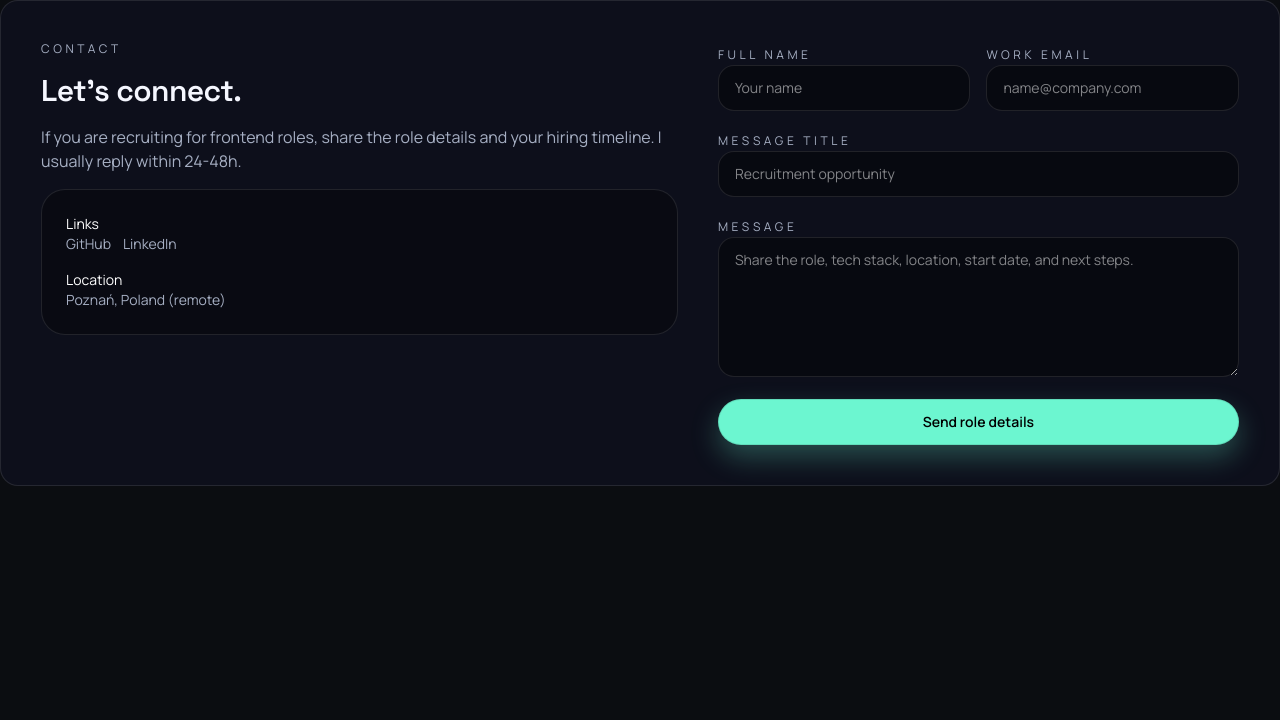
Scenario: Contact › validation errors › shows error when message is too short
This screenshot has width=1280, height=720.
Type "Jane Smith" into the field with placeholder "Your name" at (844, 88), box [718,65,970,111]
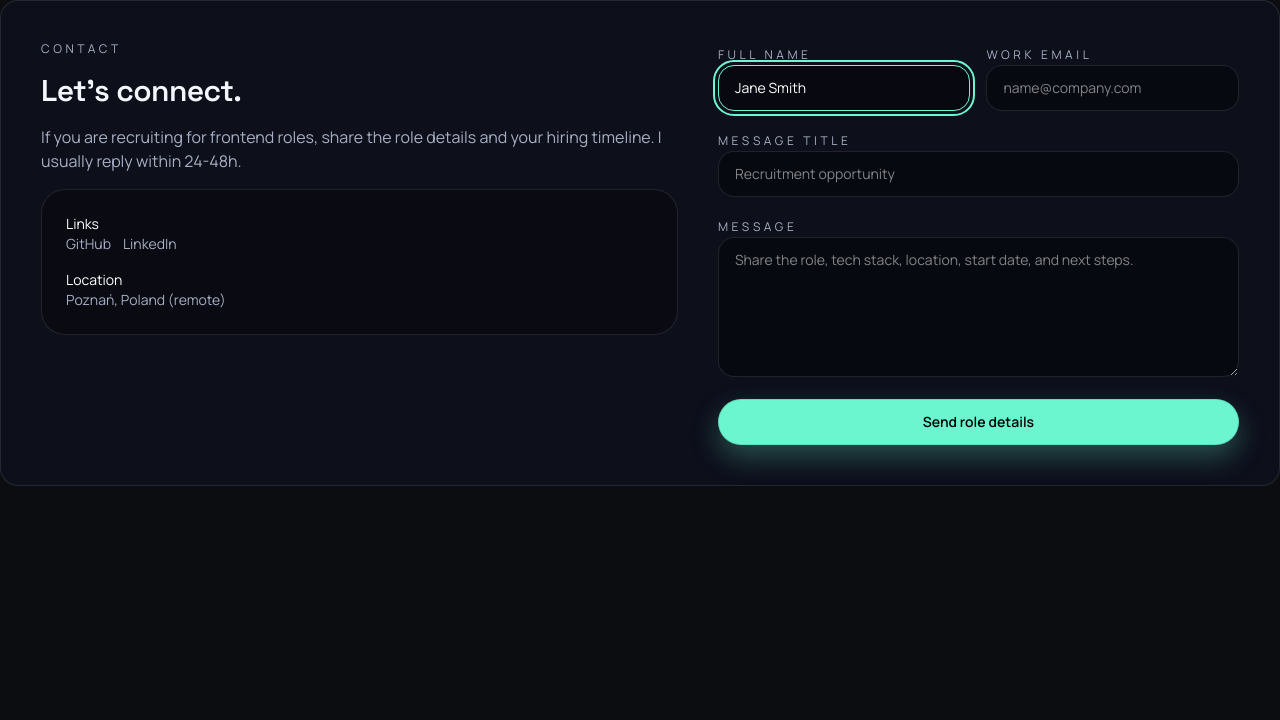
Type "jane@company.com" into the field with placeholder "name@company.com" at (1113, 88), box [986,65,1239,111]
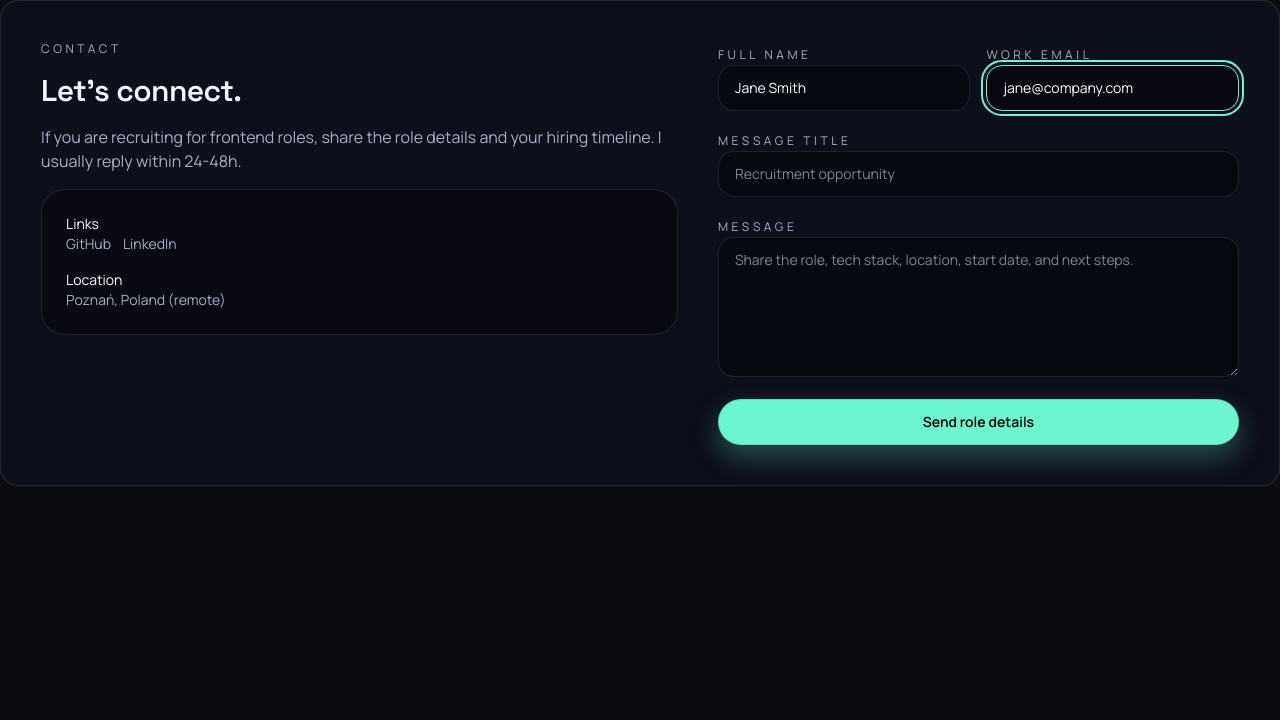
Type "Too short" into the text box with placeholder "Share the role" at (978, 307), box [718,237,1239,377]
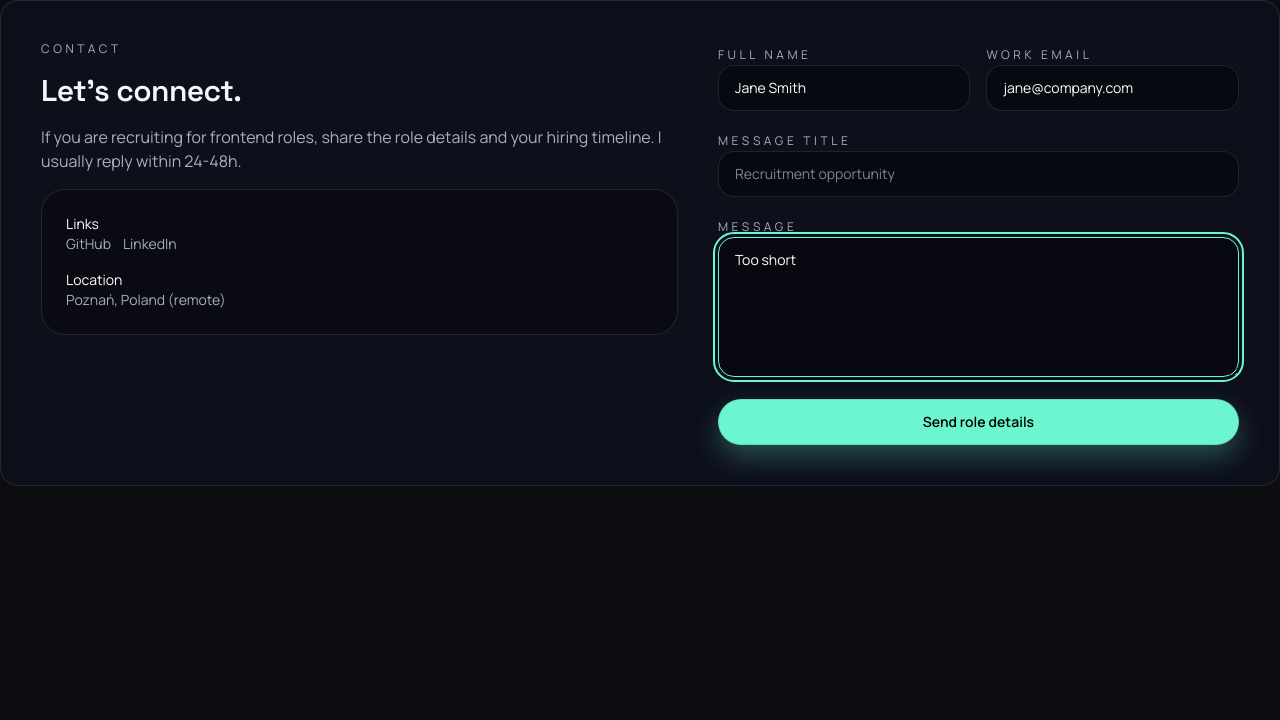
Click the button "Send role details" at (978, 422), box [718,399,1239,445]
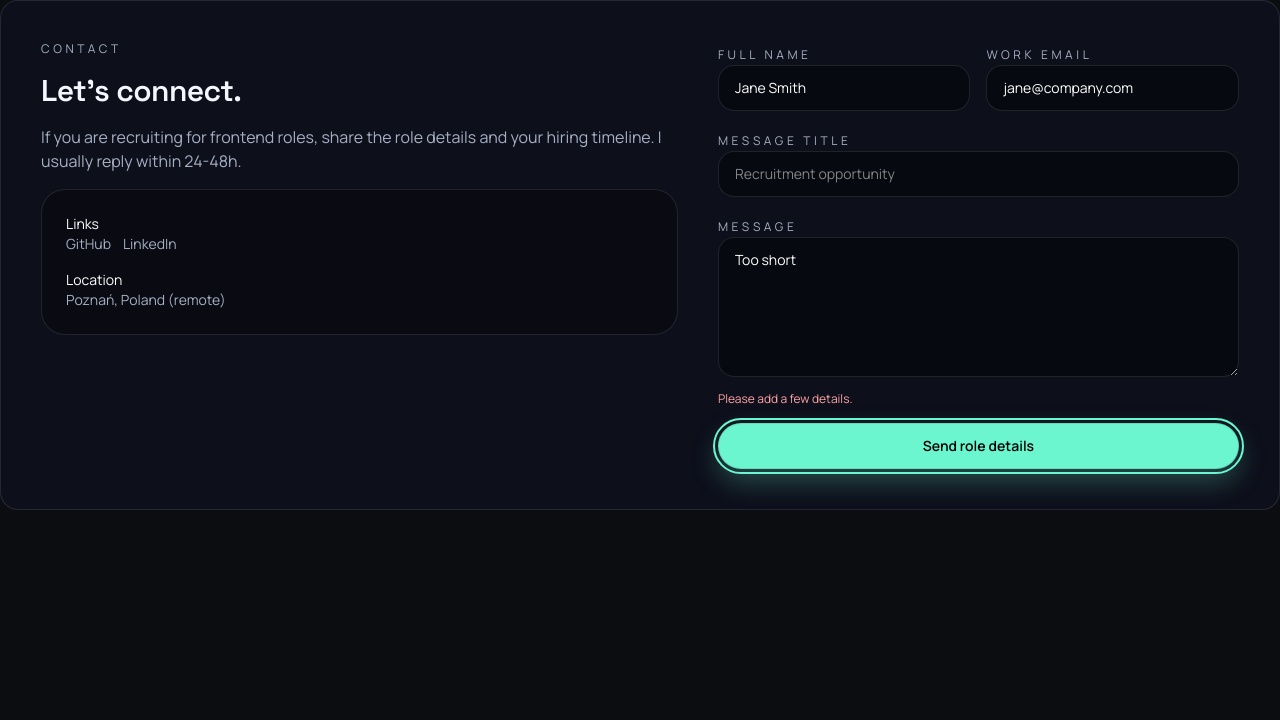
Now the text "Please add a few details." is shown, box [718,390,852,407]
